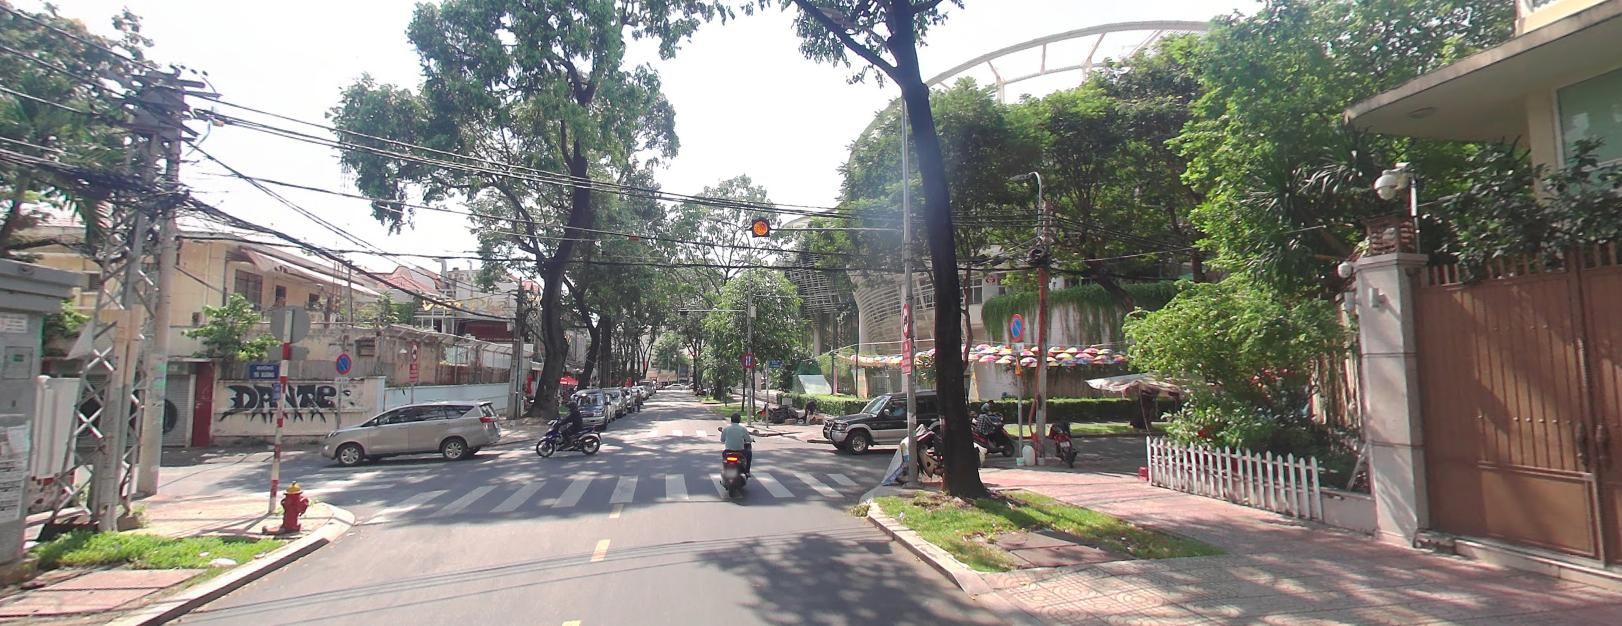Cam con lai: (899, 299, 913, 336), (410, 339, 419, 358)
Cam dung va do: (1008, 311, 1024, 339), (334, 351, 351, 372), (741, 351, 756, 367)
